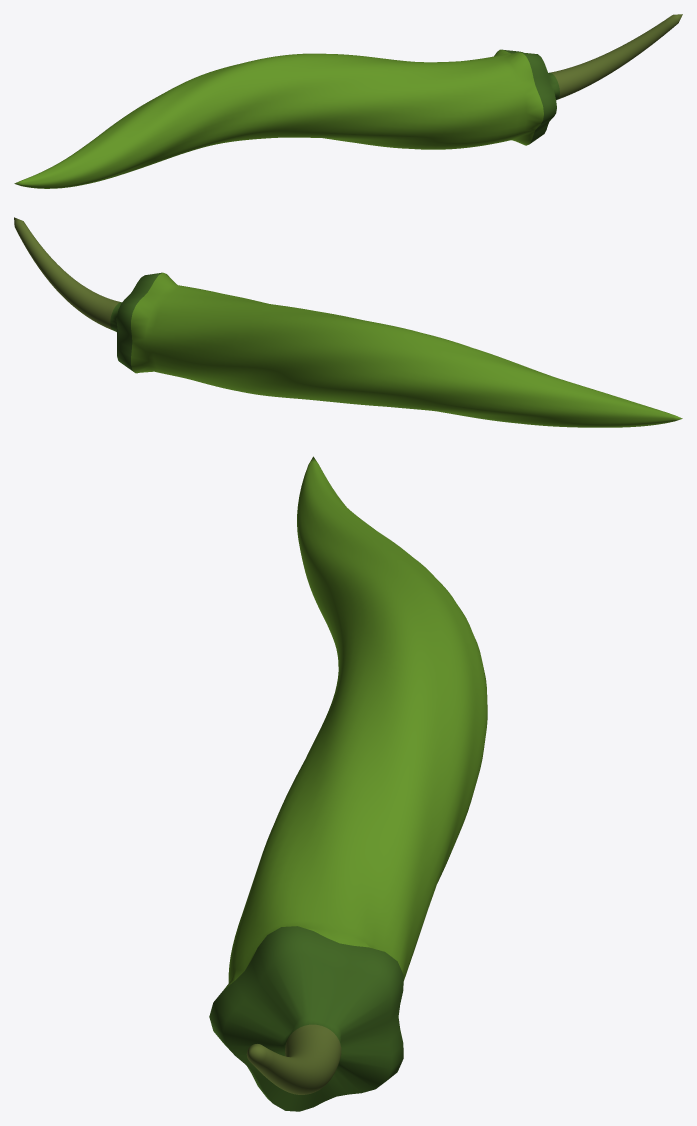
3 renders of one model, top to bottom at view 1: azimuth 30°, elevation 25°; view 2: azimuth 150°, elevation 25°; view 3: azimuth 270°, elevation 25°, orthographic. The views are drawn at different scales.
Visible parts, largest first — view 1: NEW315_LongChili_LOD0; view 2: NEW315_LongChili_LOD0; view 3: NEW315_LongChili_LOD0.
Part boxes in pixels (box(x1,y1,x2,y2)): NEW315_LongChili_LOD0: box(14, 14, 682, 188); NEW315_LongChili_LOD0: box(14, 217, 682, 427); NEW315_LongChili_LOD0: box(209, 456, 487, 1111).
Size of the model in its own units: 0.1595 by 0.0279 by 0.0294.
